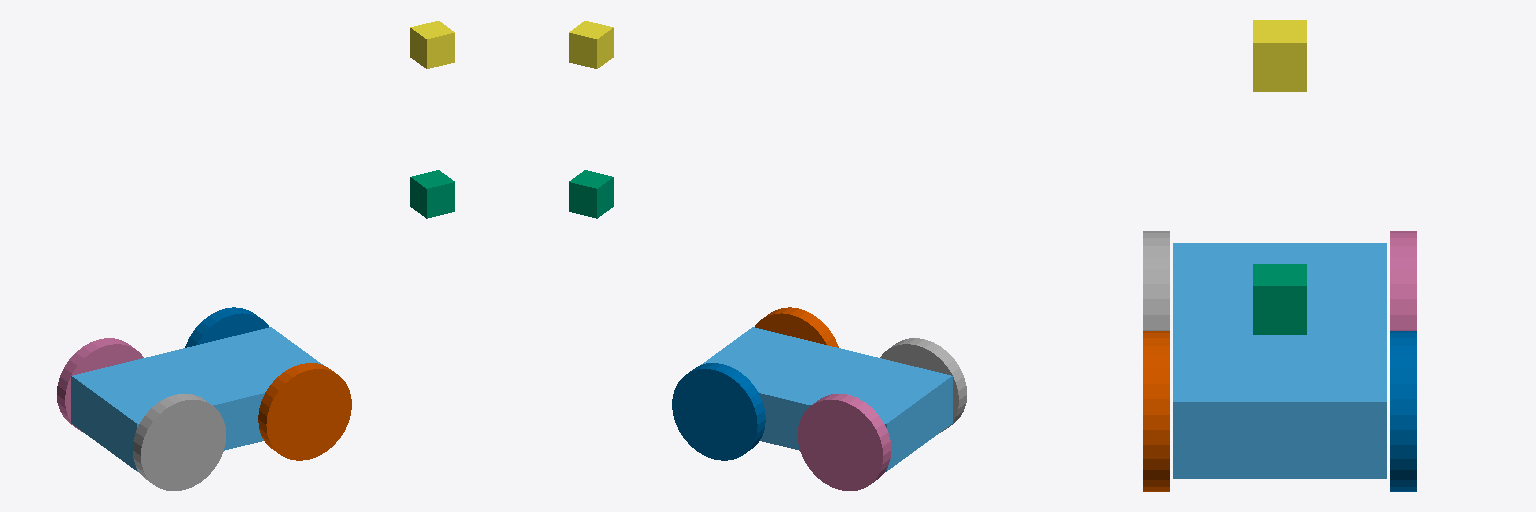
URDF robot description (autolabor_description):
<?xml version="1.0"?>
<robot name="autolabor_description">
  <joint name="dummy_joint" type="fixed">
    <parent link="base_link"/>
    <child link="body"/>
    <origin xyz="0 0 0.15" rpy="0 0 0"/>
  </joint>
  <joint name="cam_joint" type="fixed">
    <parent link="body"/>
    <child link="camera"/>
    <origin xyz="0.8 0 0.5" rpy="0 1.5707 0"/>
  </joint>
  <joint name="ray_joint" type="fixed">
    <parent link="body"/>
    <child link="ray"/>
    <origin xyz="0.8 0 1.0" rpy="0 0 0"/>
  </joint>
  <joint name="fljoint" type="continuous">
    <parent link="body"/>
    <child link="flw"/>
    <origin rpy="-1.57079 0  0" xyz="0.22  0.23 0"/>
    <axis xyz="0 0 1"/>
  </joint>
  <joint name="frjoint" type="continuous">
    <parent link="body"/>
    <child link="frw"/>
    <origin rpy="-1.57079 0  00" xyz="0.22  -0.23 0"/>
    <axis xyz="0 0 1"/>
  </joint>
  <joint name="bljoint" type="revolute">
    <parent link="body"/>
    <child link="blw"/>
    <origin rpy="-1.57079 0  0" xyz="-0.22 0.23 0"/>
    <axis xyz="0 0 1"/>
    <limit effort="10" lower="-1.79769e+308" upper="1.79769e+308" velocity="10"/>
  </joint>
  <joint name="brjoint" type="revolute">
    <parent link="body"/>
    <child link="brw"/>
    <origin rpy="-1.57079 0  0" xyz="-0.22 -0.23 0"/>
    <axis xyz="0 0 1"/>
    <limit effort="10" lower="-1.79769e+308" upper="1.79769e+308" velocity="10"/>
  </joint>
  <link name="base_link"/>
  <link name="body">
    <inertial>
      <mass value="1.0"/>
      <origin rpy="0  0  0" xyz="0  0  0"/>
      <inertia ixx="0.00197627" ixy="0" ixz="0" iyy="0.00074732" iyz="0" izz="0.00251257"/>
    </inertial>
    <collision>
      <origin rpy="0  0  0" xyz="0  0  0"/>
      <geometry>
        <box size="0.7 0.4 0.16"/>
      </geometry>
    </collision>
    <visual>
      <origin rpy="0  0  0" xyz="0  0  0"/>
      <geometry>
        <box size="0.7 0.4 0.16"/>
      </geometry>
    </visual>
  </link>
  <link name="camera">
    <inertial>
      <mass value="0.001"/>
      <origin rpy="0 0 0" xyz="0 0 0"/>
      <inertia ixx="0.000166667" iyy="0.000166667" izz="0.000166667" ixy="0" ixz="0" iyz="0"/>
    </inertial>
    <collision>
      <origin rpy="0 0 0" xyz="0 0 0"/>
      <geometry>
        <box size="0.1 0.1 0.1"/>
      </geometry>
    </collision>
    <visual>
      <origin rpy="0 0 0" xyz="0 0 0"/>
      <geometry>
        <box size="0.1 0.1 0.1"/>
      </geometry>
    </visual>
  </link>
  <link name="ray">
    <inertial>
      <mass value="0.001"/>
      <origin rpy="0 0 0" xyz="0 0 0"/>
      <inertia ixx="0.000166667" iyy="0.000166667" izz="0.000166667" ixy="0" ixz="0" iyz="0"/>
    </inertial>
    <collision>
      <origin rpy="0 0 0" xyz="0 0 0"/>
      <geometry>
        <box size="0.1 0.1 0.1"/>
      </geometry>
    </collision>
    <visual>
      <origin rpy="0 0 0" xyz="0 0 0"/>
      <geometry>
        <box size="0.1 0.1 0.1"/>
      </geometry>
    </visual>
  </link>
  <link name="flw">
    <inertial>
      <mass value="0.5"/>
      <origin rpy="0  0  0" xyz="0  0  0"/>
      <inertia ixx="3.235e-05" ixy="0" ixz="0" iyy="3.235e-05" iyz="0" izz="6.12e-05"/>
    </inertial>
    <collision>
      <origin rpy="0  0  0" xyz="0  0  0"/>
      <geometry>
        <cylinder length="0.05" radius="0.15"/>
      </geometry>
    </collision>
    <visual>
      <origin rpy="0  0  0" xyz="0  0  0"/>
      <geometry>
        <cylinder length="0.05" radius="0.15"/>
      </geometry>
    </visual>
  </link>
  <link name="frw">
    <inertial>
      <mass value="0.5"/>
      <origin rpy="0  0  0" xyz="0  0  0"/>
      <inertia ixx="3.235e-05" ixy="0" ixz="0" iyy="3.235e-05" iyz="0" izz="6.12e-05"/>
    </inertial>
    <collision>
      <origin rpy="0  0  0" xyz="0  0  0"/>
      <geometry>
        <cylinder length="0.05" radius="0.15"/>
      </geometry>
    </collision>
    <visual>
      <origin rpy="0  0  0" xyz="0  0  0"/>
      <geometry>
        <cylinder length="0.05" radius="0.15"/>
      </geometry>
    </visual>
  </link>
  <link name="blw">
    <inertial>
      <mass value="0.5"/>
      <origin rpy="0  0  0" xyz="0  0  0"/>
      <inertia ixx="3.235e-05" ixy="0" ixz="0" iyy="3.235e-05" iyz="0" izz="6.12e-05"/>
    </inertial>
    <collision>
      <origin rpy="0  0  0" xyz="0  0  0"/>
      <geometry>
        <cylinder length="0.05" radius="0.15"/>
      </geometry>
    </collision>
    <visual>
      <origin rpy="0  0  0" xyz="0  0  0"/>
      <geometry>
        <cylinder length="0.05" radius="0.15"/>
      </geometry>
    </visual>
  </link>
  <link name="brw">
    <inertial>
      <mass value="0.5"/>
      <origin rpy="0  0  0" xyz="0  0  0"/>
      <inertia ixx="3.235e-05" ixy="0" ixz="0" iyy="3.235e-05" iyz="0" izz="6.12e-05"/>
    </inertial>
    <collision>
      <origin rpy="0  0  0" xyz="0  0  0"/>
      <geometry>
        <cylinder length="0.05" radius="0.15"/>
      </geometry>
    </collision>
    <visual>
      <origin rpy="0  0  0" xyz="0  0  0"/>
      <geometry>
        <cylinder length="0.05" radius="0.15"/>
      </geometry>
    </visual>
  </link>

  <transmission name="tran3">
    <type>transmission_interface/SimpleTransmission</type>
    <joint name="brjoint">
      <hardwareInterface>hardware_interface/VelocityJointInterface</hardwareInterface>
    </joint>
    <actuator name="motor3">
      <mechanicalReduction>1</mechanicalReduction>
    </actuator>
  </transmission>
  <transmission name="tran4">
    <type>transmission_interface/SimpleTransmission</type>
    <joint name="bljoint">
      <hardwareInterface>hardware_interface/VelocityJointInterface</hardwareInterface>
    </joint>
    <actuator name="motor4">
      <mechanicalReduction>1</mechanicalReduction>
    </actuator>
  </transmission>

  <gazebo reference="body">
    <mu1>1</mu1>
    <mu2>1</mu2>
  </gazebo>
  <gazebo reference="flw">
    <mu1>1</mu1>
    <mu2>1</mu2>
  </gazebo>
  <gazebo reference="frw">
    <mu1>1</mu1>
    <mu2>1</mu2>
  </gazebo>
  <gazebo reference="blw">
    <mu1>10</mu1>
    <mu2>10</mu2>
  </gazebo>
  <gazebo reference="brw">
    <mu1>10</mu1>
    <mu2>10</mu2>
  </gazebo>
  <sensor name="camera" update_rate="30.0">
    <parent link="camera"/>
    <origin xyz="0 0 0" rpy="0 0 0"/>
    <camera>
      <image width="1080" height="720" hfov="1.5" format="RGB8" near="0.1" far="10.0"/>
    </camera>
  </sensor>
  <sensor name="ray" update_rate="30.0">
    <parent link="ray"/>
    <origin xyz="0 0 0" rpy="0 0 0"/>
    <ray>
      <horizontal samples="100000" resolution="1" min_angle="-3.1415" max_angle="3.1415"/>
      <vertical samples="1" resolution="1" min_angle="0" max_angle="0"/>
    </ray>
  </sensor>  

  <gazebo reference="camera">
    <sensor type="camera" name="camera">
      <update_rate>30.0</update_rate>
      <camera name="scaner">
        <horizontal_fov>1.5</horizontal_fov>
        <image>
          <width>1080</width>
          <height>720</height>
          <format>R8G8B8</format>
        </image>
        <clip>
          <near>0.1</near>
          <far>10</far>
        </clip>
      </camera>
      <plugin name="camera_controller" filename="libgazebo_ros_camera.so">
        <alwaysOn>true</alwaysOn>
        <updateRate>60.0</updateRate>
        <cameraName>autolabor_pro1/camera1</cameraName>
        <imageTopicName>image_raw</imageTopicName>
        <cameraInfoTopicName>camera_info</cameraInfoTopicName>
        <frameName>camera</frameName>
      </plugin>
    </sensor>
  </gazebo>
  <gazebo reference="ray">
    <sensor type="ray" name="ray">
      <update_rate>60.0</update_rate>
      <ray>
        <scan>
          <horizontal>
            <samples>100000</samples>
            <resolution>1</resolution>
            <min_angle>-3.1415</min_angle>
            <max_angle>3.1415</max_angle>
          </horizontal>
        </scan>
        <range>
          <min>0.1</min>
          <max>10</max>
          <resolution>0.01</resolution>
        </range>
      </ray>
      <plugin name="ray_controller" filename="libgazebo_ros_laser.so">
        <topicName>autolabor_pro1/laser/scan</topicName>
        <frameName>ray</frameName>
      </plugin>
    </sensor>
  </gazebo>
  <gazebo>
    <plugin name="gazebo_ros_control" filename="libgazebo_ros_control.so">
      <robotNamespace>/autolabor_pro1</robotNamespace>
      <robotSimType>gazebo_ros_control/DefaultRobotHWSim</robotSimType>
    </plugin>
  </gazebo>
</robot>

--- Render facts (derived) ---
3 views of the same robot in one strip: view 1: azimuth 30°, elevation 25°; view 2: azimuth 150°, elevation 25°; view 3: azimuth 270°, elevation 25° (orthographic).
Robot: autolabor_description — 8 links, 7 joints (2 revolute, 2 continuous, 3 fixed); root link base_link; default pose: every joint at zero.
Links seen in each view (by area): view 1: body, frw, brw, blw, ray, camera, flw; view 2: body, flw, blw, brw, ray, camera, frw; view 3: body, flw, frw, ray, camera, blw, brw.
Boxes of the visible links, bbox=[...] form: body: bbox=[71, 327, 322, 471]; frw: bbox=[258, 363, 351, 460]; brw: bbox=[133, 394, 225, 490]; blw: bbox=[57, 338, 143, 432]; ray: bbox=[410, 21, 454, 68]; camera: bbox=[410, 170, 454, 218]; flw: bbox=[185, 307, 268, 347]; body: bbox=[701, 327, 952, 471]; flw: bbox=[672, 363, 765, 460]; blw: bbox=[798, 394, 890, 490]; brw: bbox=[880, 338, 966, 432]; ray: bbox=[569, 21, 613, 68]; camera: bbox=[569, 170, 613, 218]; frw: bbox=[755, 307, 838, 347]; body: bbox=[1173, 243, 1386, 478]; flw: bbox=[1390, 331, 1416, 491]; frw: bbox=[1143, 331, 1169, 491]; ray: bbox=[1253, 20, 1306, 91]; camera: bbox=[1253, 264, 1306, 334]; blw: bbox=[1390, 231, 1416, 330]; brw: bbox=[1143, 231, 1169, 330].
Bounding box of the posed robot: 1.22 × 0.51 × 1.2 m (x, y, z).
Geometry: primitives only (box / cylinder / sphere), no mesh files.
